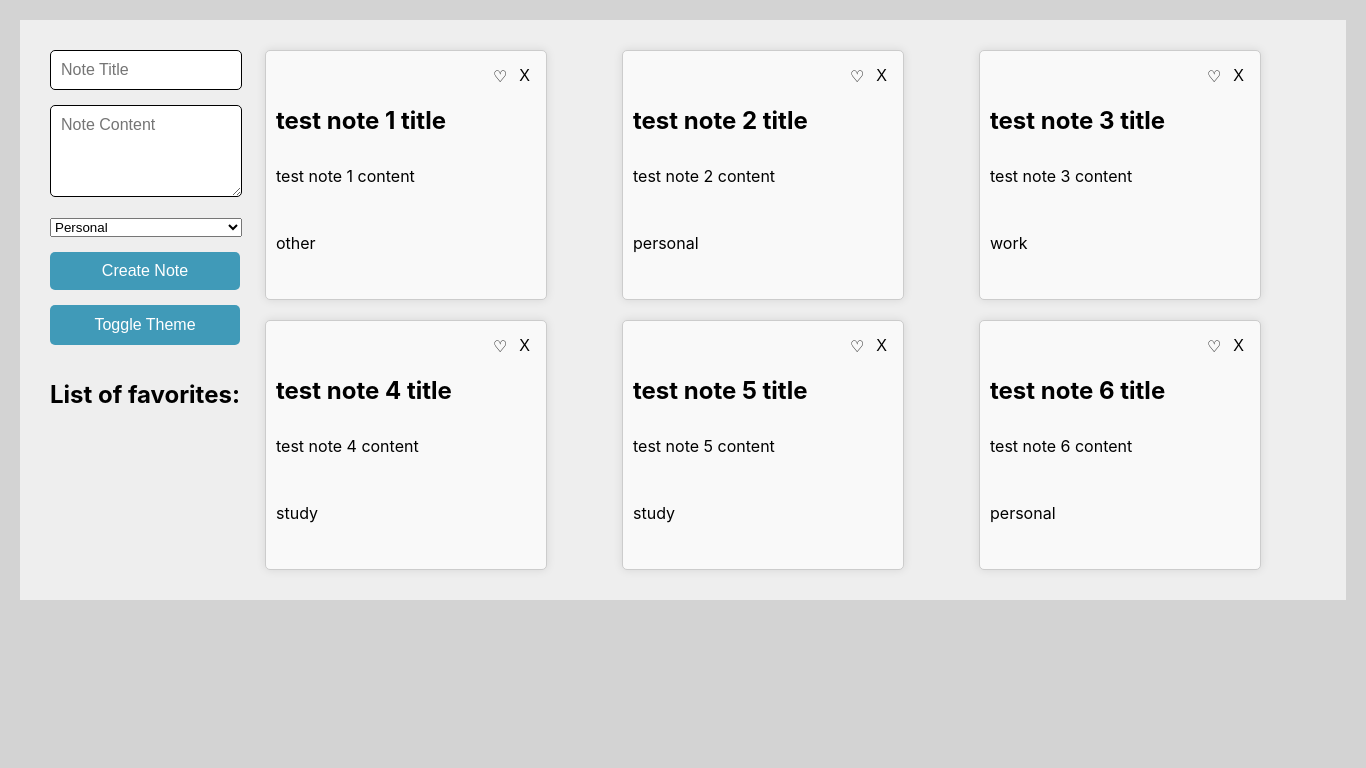
Test: Create StickyNote › reads and displays all created notes
The image size is (1366, 768).
Type "First Note" into the field with placeholder "Note Title" at (146, 70), box [50, 50, 242, 90]
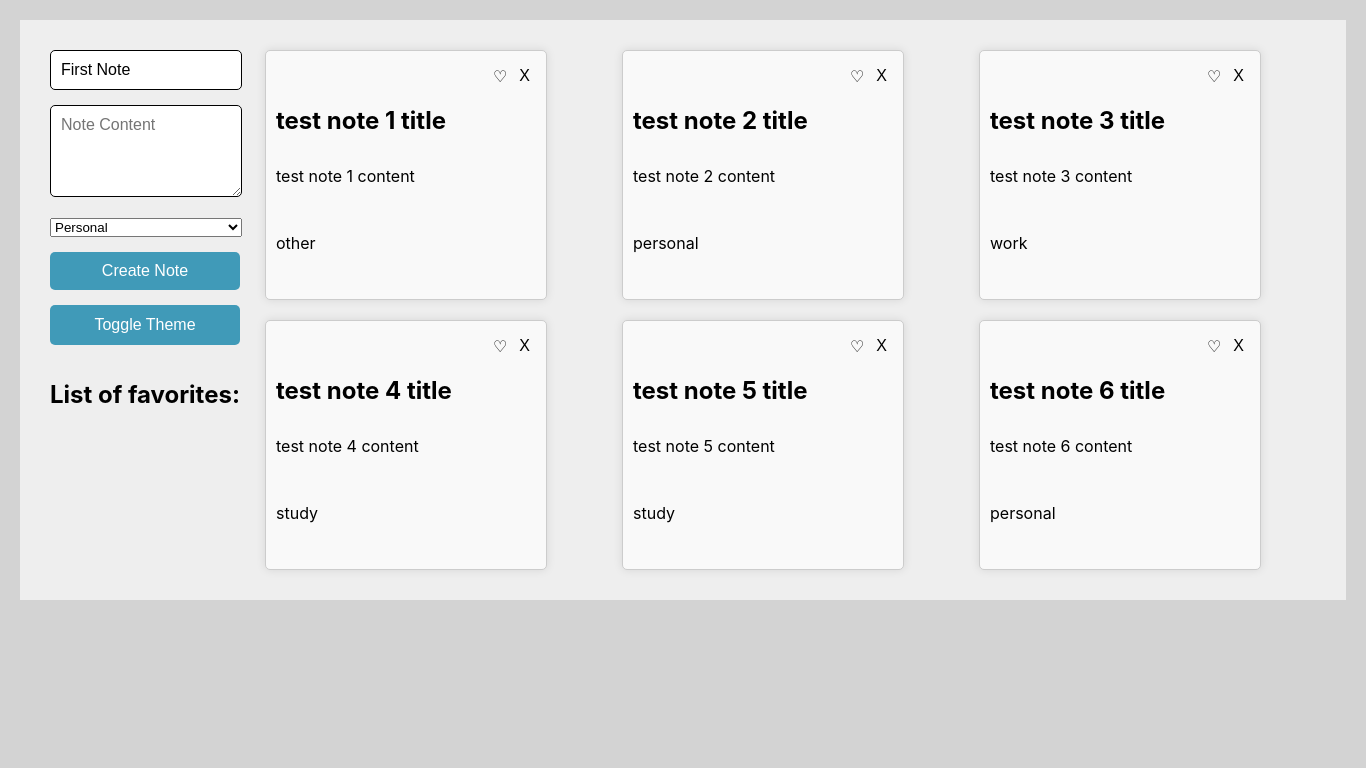
Type "First Note Content" into the text box with placeholder "Note Content" at (146, 151), box [50, 105, 242, 197]
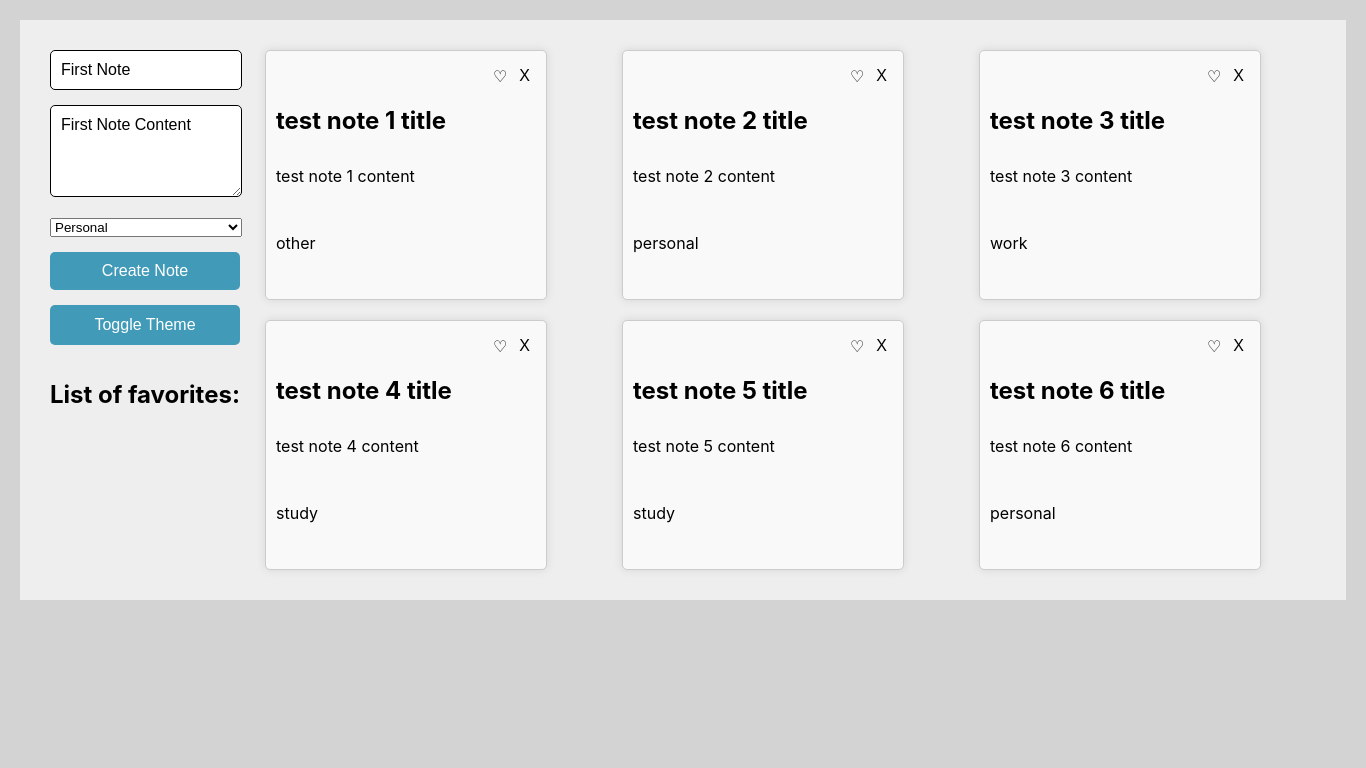
Click the button "Create Note" at (145, 271), box [50, 252, 240, 290]
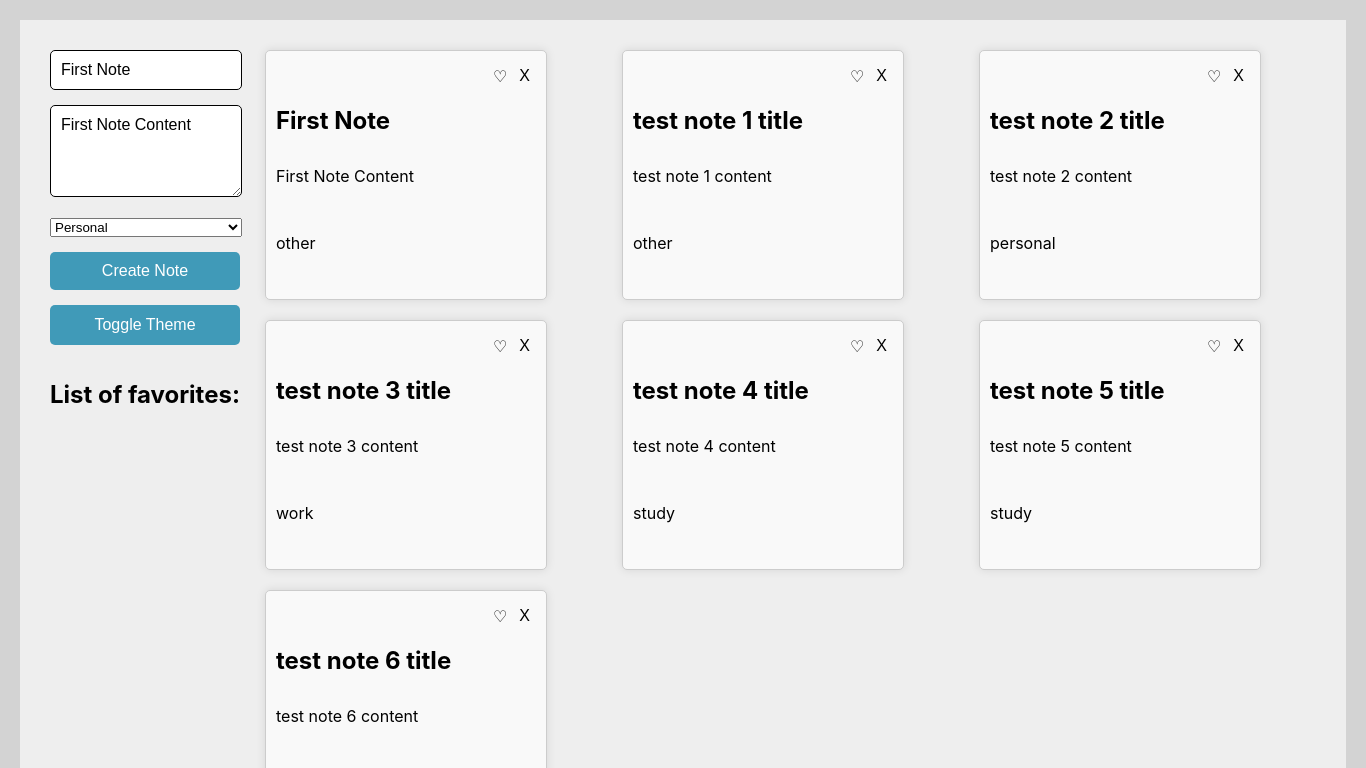
Replace the text in the field with placeholder "Note Title" with "Second Note" at (146, 70), box [50, 50, 242, 90]
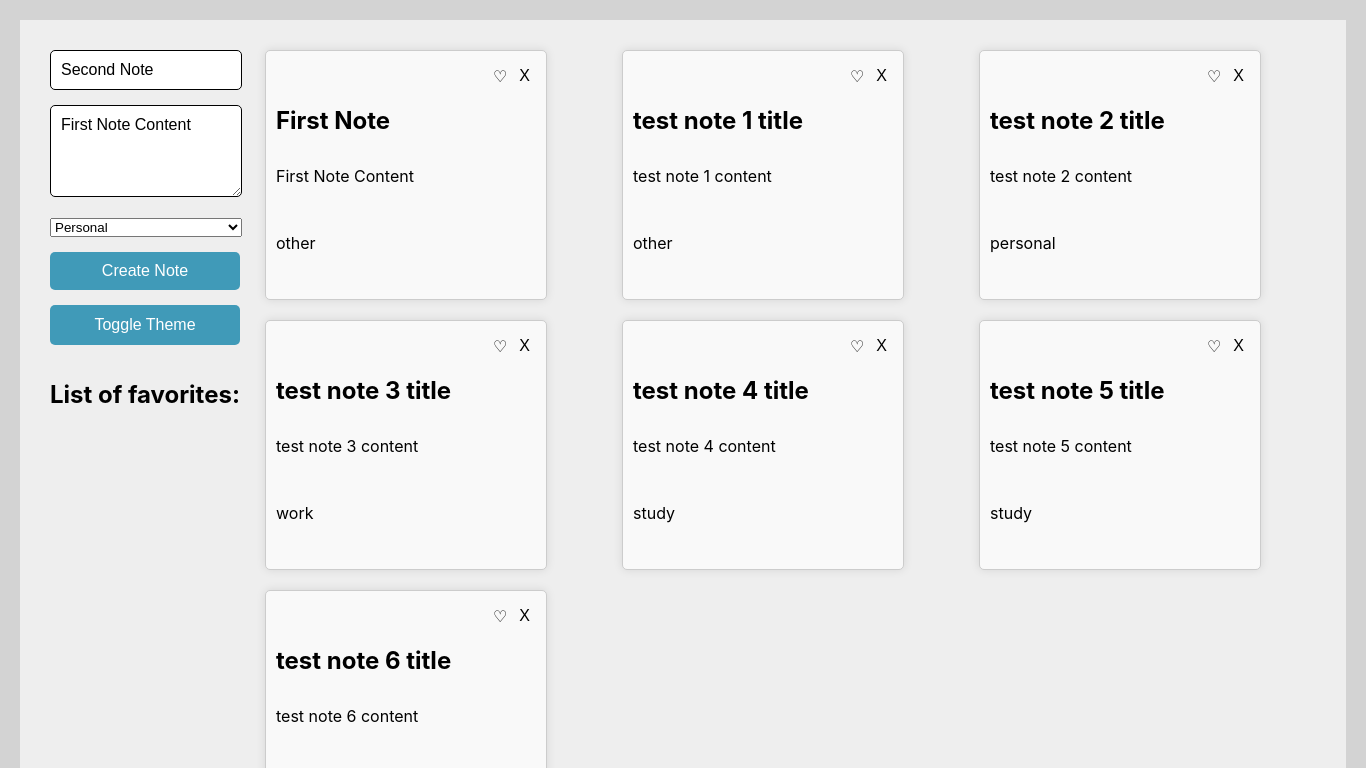
Replace the text in the text box with placeholder "Note Content" with "Second Note Content" at (146, 151), box [50, 105, 242, 197]
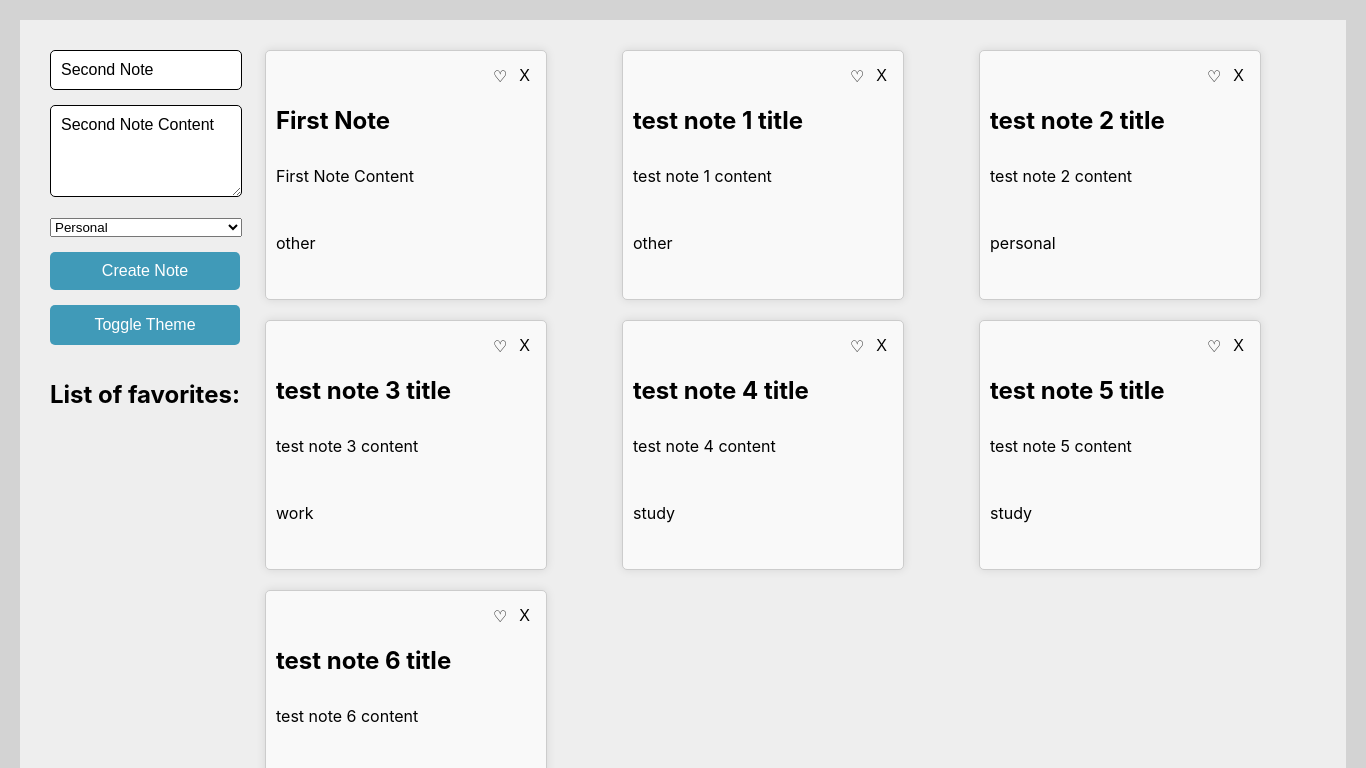
Click the button "Create Note" at (145, 271), box [50, 252, 240, 290]
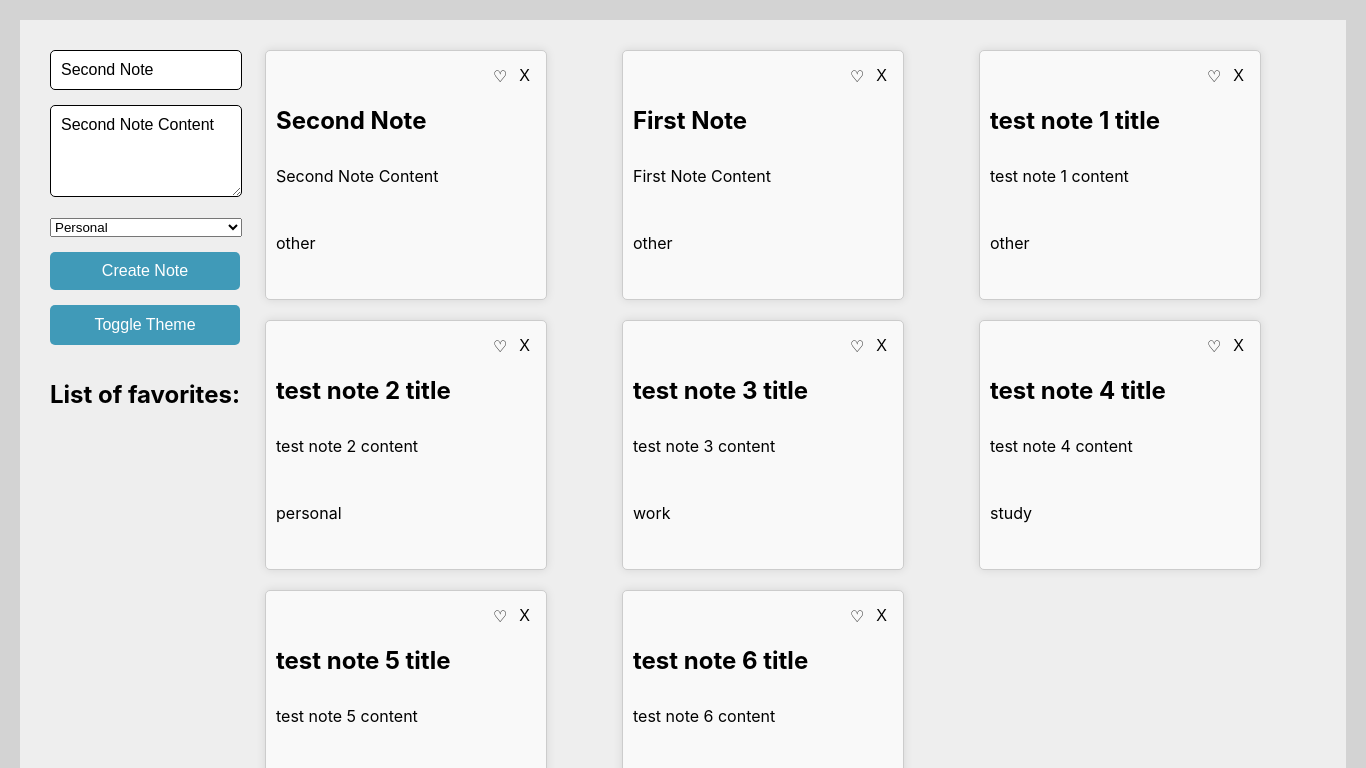
Now the heading "First Note" is shown, box [633, 106, 747, 135]
Now the text box "First Note Content" is shown, box [633, 166, 771, 186]
Now the heading "Second Note" is shown, box [276, 106, 426, 135]
